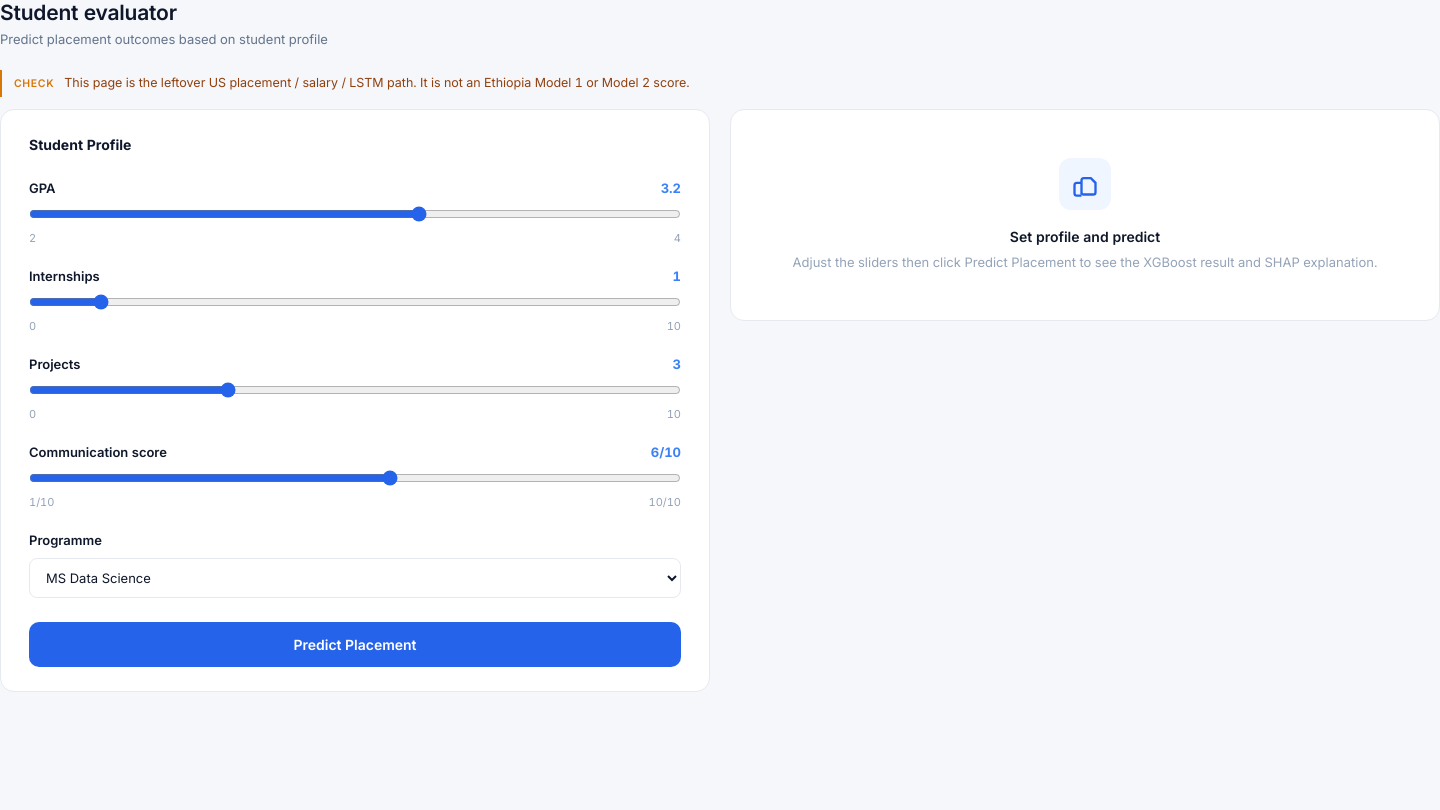
Scenario: StudentEvaluatorPage — Not Placed result › shows "Not Placed" badge for weak profile
Click the button "Predict Placement". click: (355, 644)
box: [29,622,681,667]
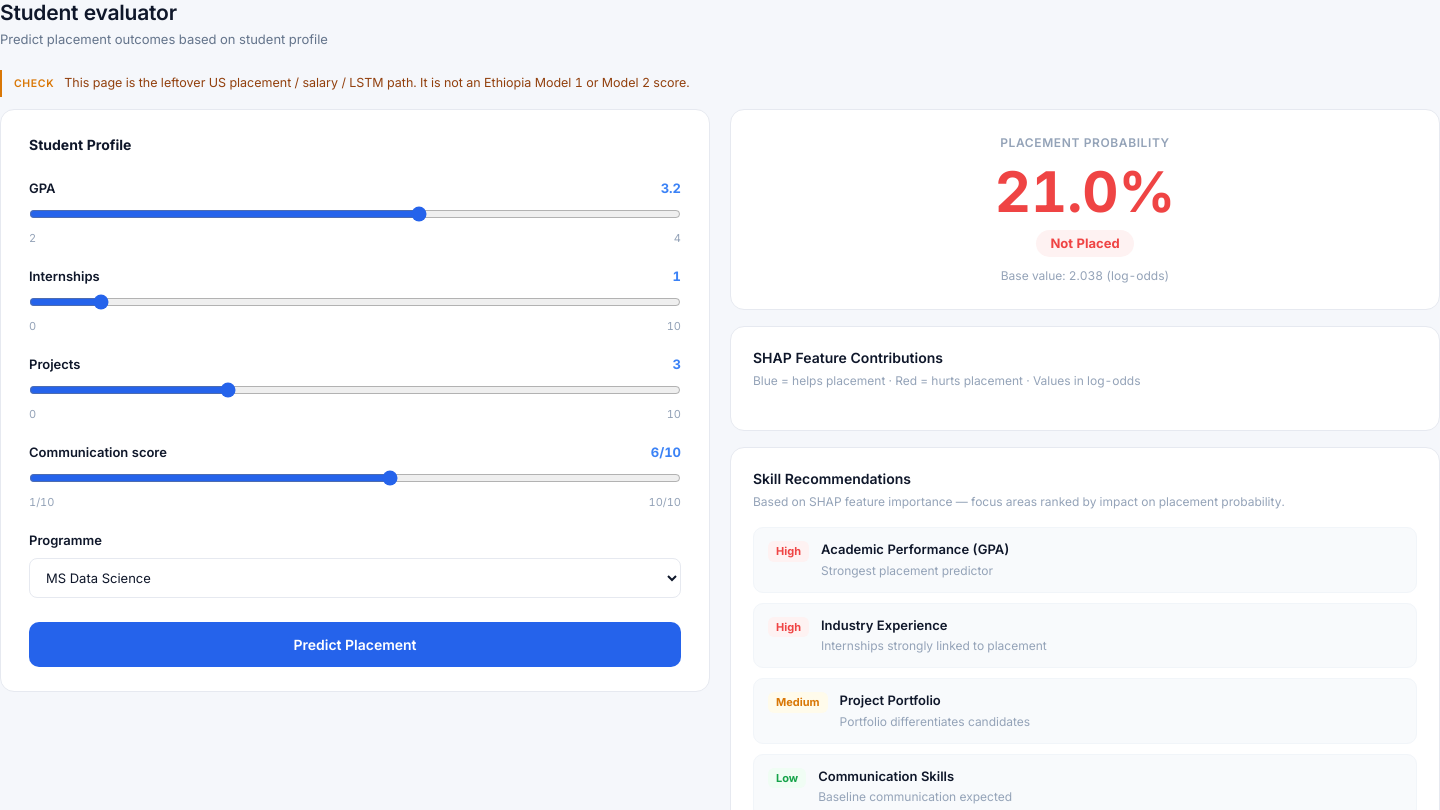
Check: the text "Not Placed" is shown, box [1036,230,1134,257]
